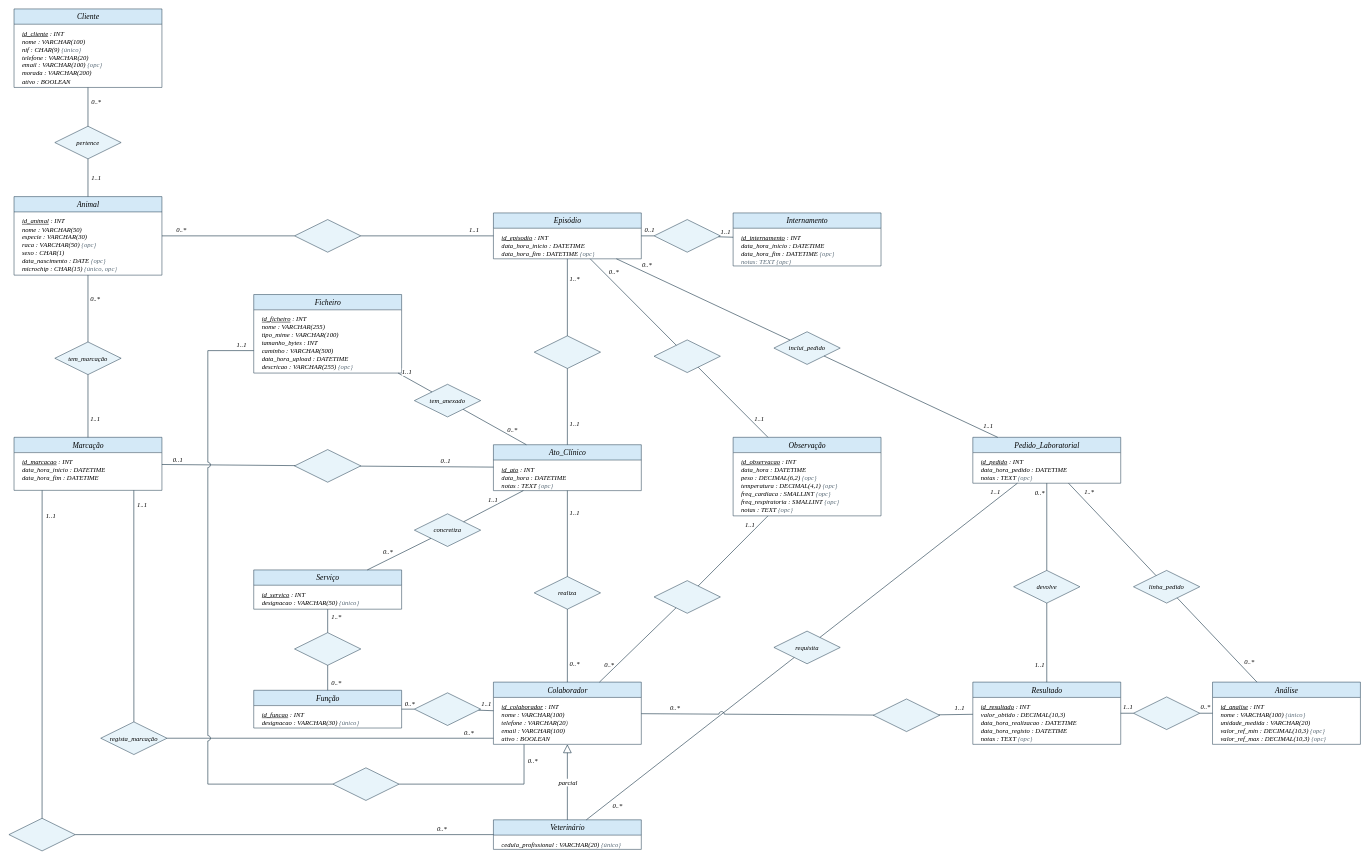
Image size: 1369x860. Some labels were removed from this diagram. The centre of each missing label's shape, as x and y in pixels:
atribuída_a: the point at 41,834
autoriza: the point at 327,648
carrega: the point at 365,783
corresponde: the point at 1166,713
desempenha: the point at 447,708
inclui_ato: the point at 567,351
inclui_internamento: the point at 687,235
inclui_observacao: the point at 687,356
origina: the point at 327,465
regista_observação: the point at 687,596
regista_resultado: the point at 906,715
tem_episódio: the point at 327,235
